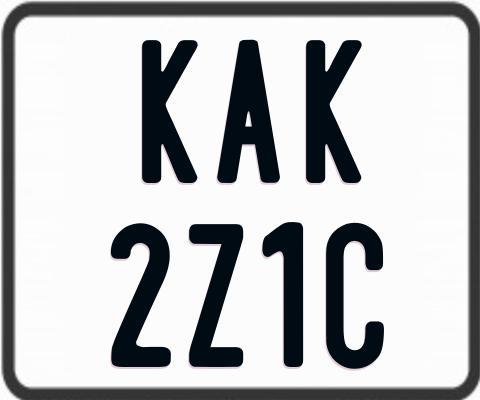1: (261, 221, 304, 367)
2: (110, 223, 175, 373)
A: (217, 38, 281, 182)
C: (325, 220, 385, 372)
K: (303, 40, 359, 189), (141, 39, 198, 184)
Z: (186, 223, 242, 371)
